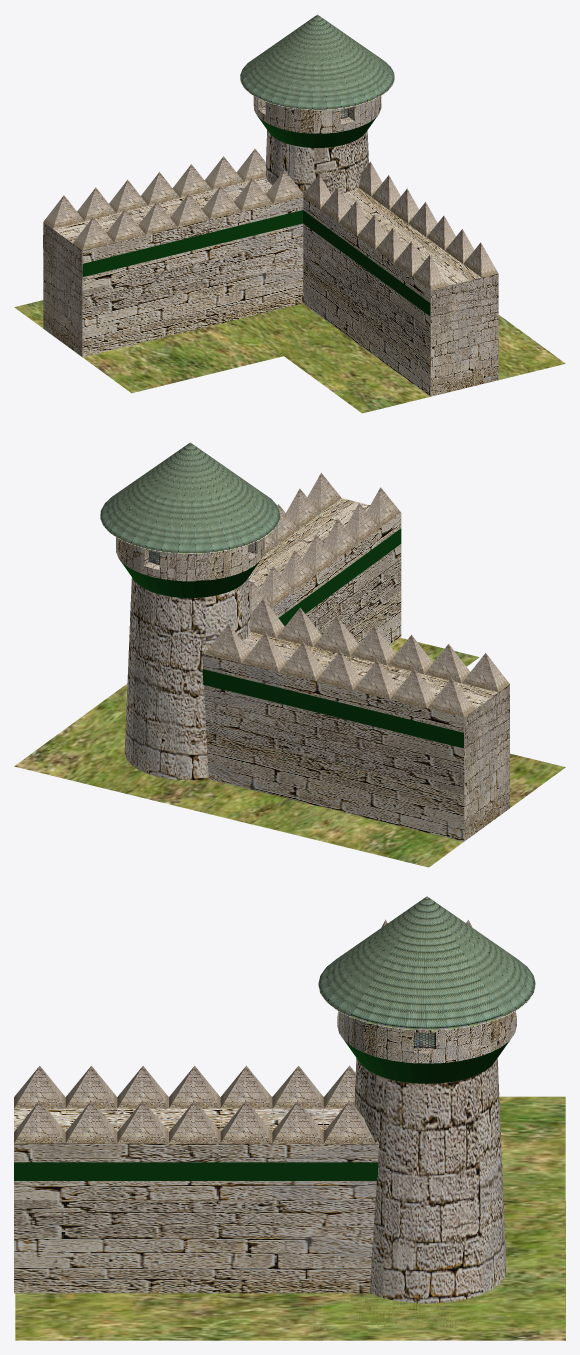
Rendered from Elf-Wall_Corner.fbx.
3 renders of one model, top to bottom at view 1: azimuth 30°, elevation 25°; view 2: azimuth 150°, elevation 25°; view 3: azimuth 270°, elevation 25°, orthographic. The views are drawn at different scales.
Visible parts, largest first — view 1: Muralla2_Paredes, Muralla_Paredes, Suelo, Muralla2_Triangulos, Torre_Tejado, Muralla_Triangulos, Torre_Muro, Muralla2_Bandera, Torre_Soporte, Muralla_Bandera, Torre_Bandera; view 2: Muralla2_Paredes, Suelo, Torre_Muro, Muralla2_Triangulos, Torre_Tejado, Muralla_Paredes, Muralla_Triangulos, Muralla2_Bandera, Torre_Soporte, Torre_Bandera, Muralla_Bandera; view 3: Muralla_Paredes, Suelo, Torre_Muro, Muralla_Triangulos, Torre_Tejado, Muralla_Bandera, Torre_Soporte, Torre_Bandera.
Part boxes in pixels (x1=…): Muralla2_Paredes: x1=43, y1=177, x2=303, y2=357; Muralla_Paredes: x1=303, y1=188, x2=498, y2=396; Suelo: x1=14, y1=300, x2=565, y2=413; Muralla2_Triangulos: x1=43, y1=149, x2=303, y2=250; Torre_Tejado: x1=240, y1=14, x2=394, y2=109; Muralla_Triangulos: x1=303, y1=162, x2=498, y2=289; Torre_Muro: x1=265, y1=130, x2=368, y2=303; Muralla2_Bandera: x1=43, y1=210, x2=302, y2=276; Torre_Soporte: x1=253, y1=96, x2=381, y2=133; Muralla_Bandera: x1=303, y1=210, x2=430, y2=316; Torre_Bandera: x1=257, y1=115, x2=377, y2=147; Muralla2_Paredes: x1=202, y1=632, x2=509, y2=841; Suelo: x1=14, y1=637, x2=565, y2=867; Torre_Muro: x1=124, y1=577, x2=250, y2=780; Muralla2_Triangulos: x1=202, y1=598, x2=509, y2=717; Torre_Tejado: x1=100, y1=442, x2=280, y2=553; Muralla_Paredes: x1=249, y1=498, x2=401, y2=644; Muralla_Triangulos: x1=249, y1=473, x2=400, y2=613; Muralla2_Bandera: x1=202, y1=669, x2=463, y2=748; Torre_Soporte: x1=116, y1=537, x2=264, y2=581; Torre_Bandera: x1=119, y1=559, x2=260, y2=597; Muralla_Bandera: x1=278, y1=528, x2=401, y2=626; Muralla_Paredes: x1=14, y1=1108, x2=379, y2=1293; Suelo: x1=15, y1=1096, x2=565, y2=1340; Torre_Muro: x1=354, y1=1058, x2=506, y2=1303; Muralla_Triangulos: x1=14, y1=1065, x2=378, y2=1143; Torre_Tejado: x1=318, y1=896, x2=535, y2=1030; Muralla_Bandera: x1=14, y1=1162, x2=378, y2=1180; Torre_Soporte: x1=337, y1=1011, x2=516, y2=1063; Torre_Bandera: x1=345, y1=1040, x2=509, y2=1083.
Size of the model in its own units: 1050 by 751 by 1002.
